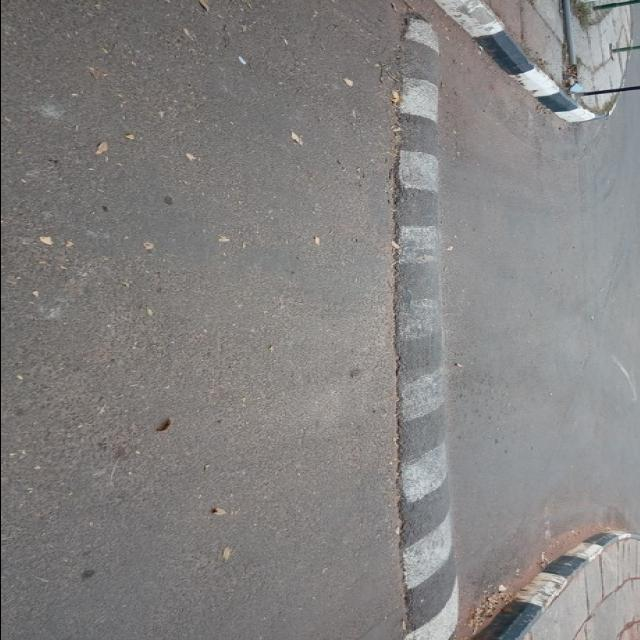speedbreaker: (373, 29, 477, 626)
